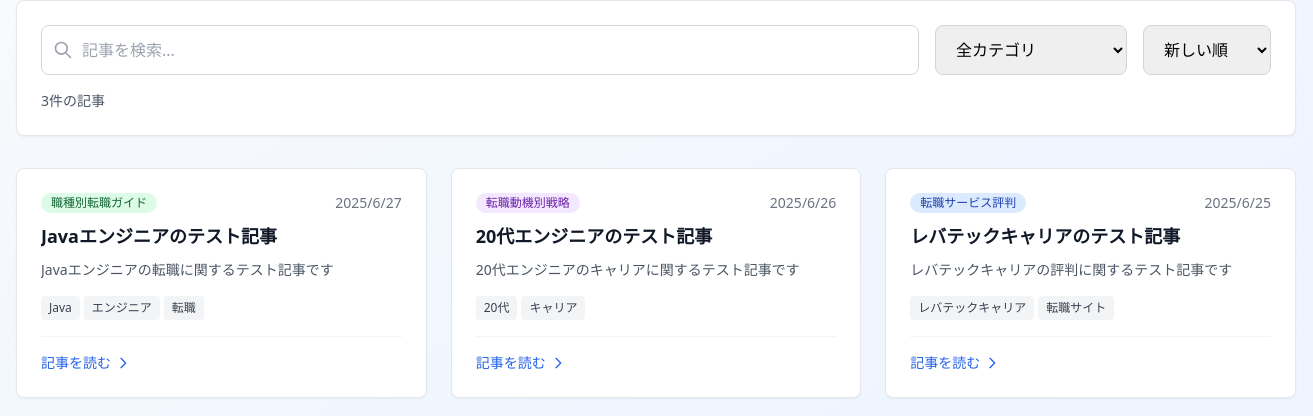
Test: AllArticlesList › カテゴリフィルターが動作する
The width and height of the screenshot is (1313, 416).
「職種別転職ガイド」で絞り込み
Select "職種別転職ガイド" in the 1st dropdown showing "全カテゴリ" at (1031, 50), box [935,25,1127,75]
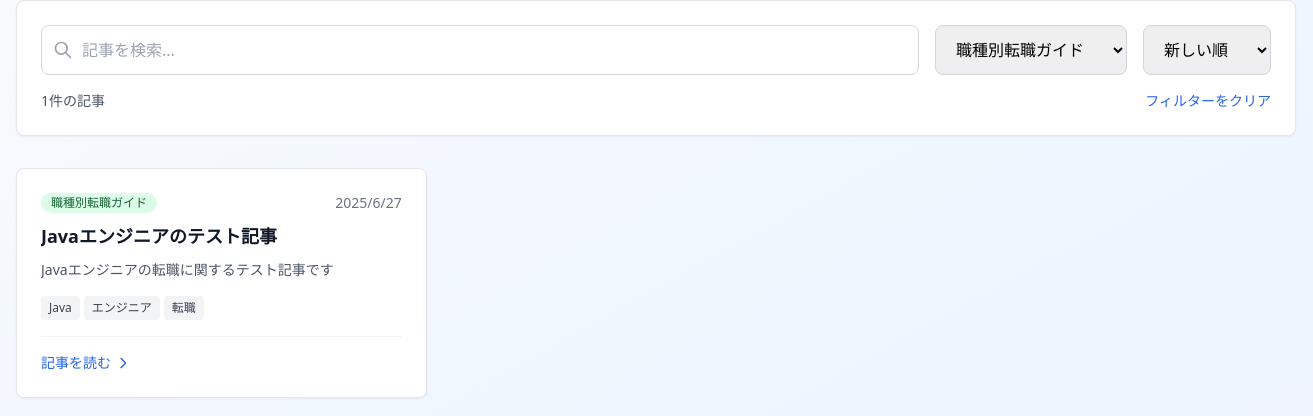
Check: the link "20代エンジニアのテスト記事" is gone
Check: the link "レバテックキャリアのテスト記事" is gone
Check: the text "1件の記事" is shown, box [41,91,105,111]
